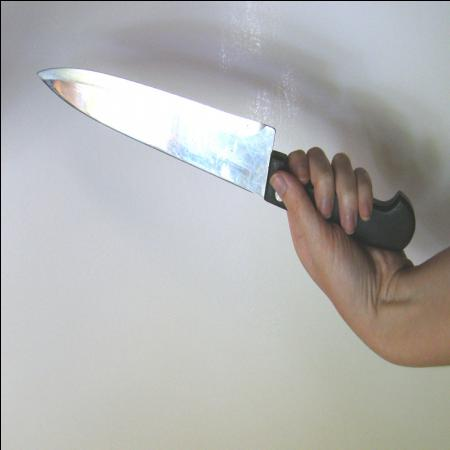long weapon: (28, 60, 422, 264)
